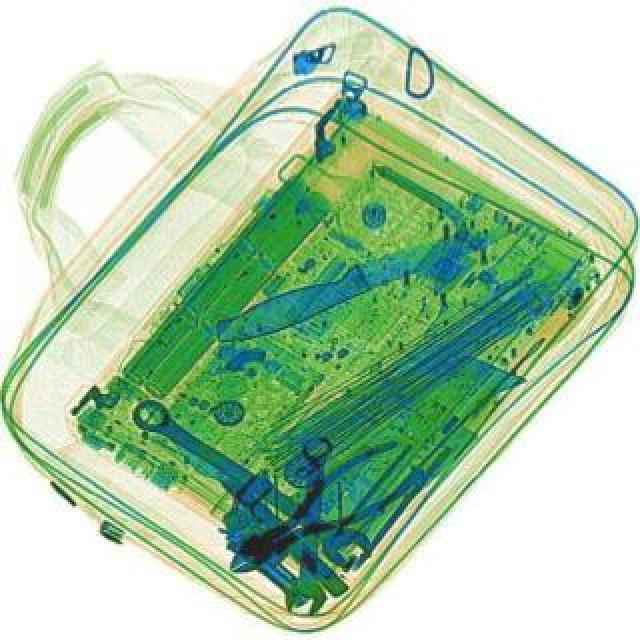gun: (200, 468, 354, 612)
knife: (114, 368, 348, 600), (210, 210, 526, 346)
scissors: (122, 388, 380, 578), (280, 434, 340, 618)
wrench: (206, 432, 426, 588)
